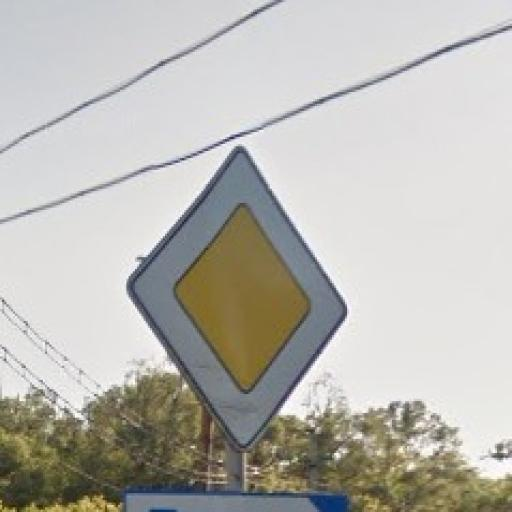traffic_sign: (128, 148, 351, 457)
